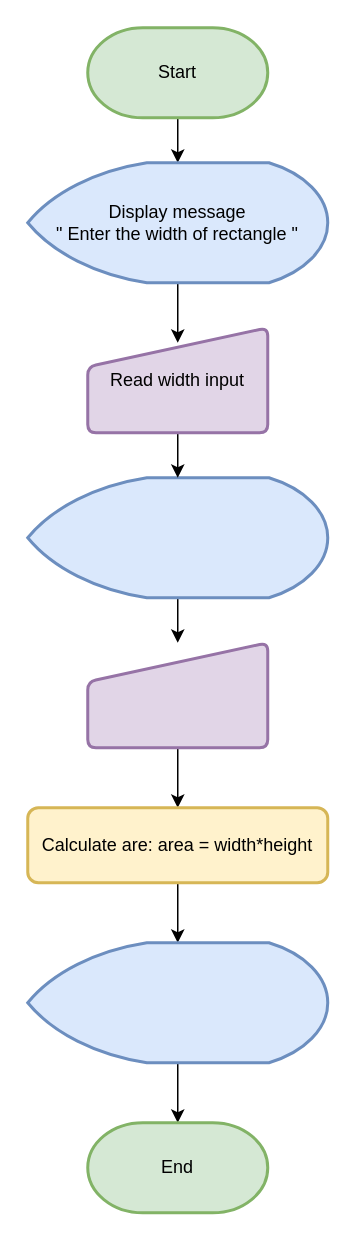
The diagram is 354 pixels wide and 1239 high, and some of its shapes have lost their labels. Each missing label, with the centre of its shape:
Display message " Enter the height of the rectangle ": point 177,537
Display message " The area of rectangle is ",area: point 177,1002
Read height input: point 177,694
